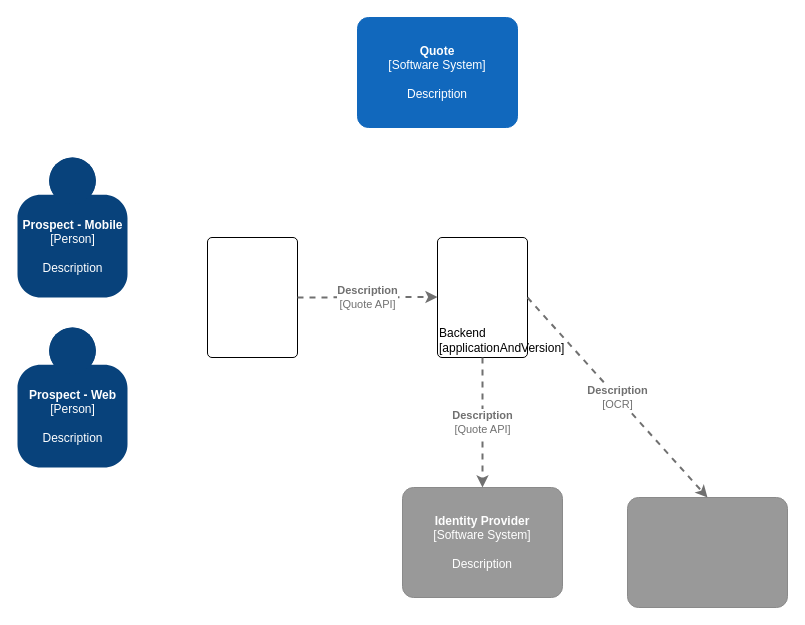
Some shapes in this 805 by 625 pixel diagram are drawn without their labels. The shapes that lost their labels are listed below. From the top down, each one's centre as x and y in pixels, then its label:
At [252,297]: "SPA [applicationAndVersion]".
At [707,552]: "name [Software System] Description".
